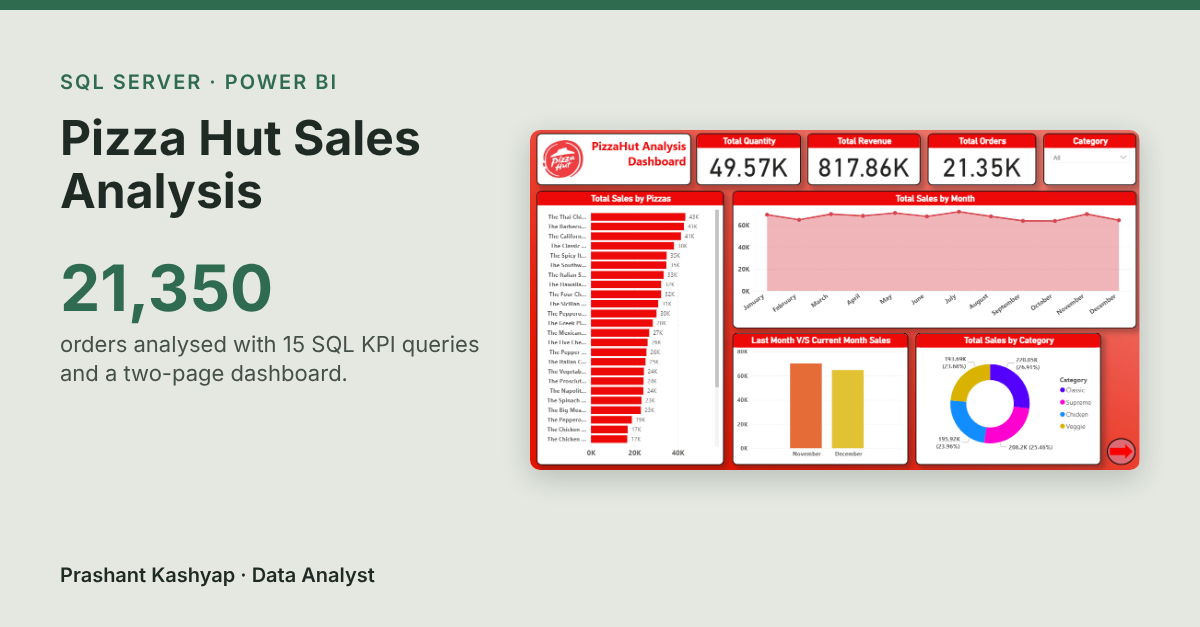

The dashboard page shown, as its layout file describes it:
{"tool":"powerbi","page":{"name":"DashBoard1","canvas":[1280,720],"ordinal":0},"visuals":[{"type":"card","title":"Total Quantity","fields":{"Values":["Sum(order_details.quantity)"]},"box":[351.1,10.9,219.6,108.6],"z":0},{"type":"card","title":"Total Revenue","fields":{"Values":["order_details.Total_Revenue"]},"box":[583.9,10.9,236.5,108.6],"z":1000},{"type":"card","title":"Total Orders","fields":{"Values":["Count(order_details.order_id)"]},"box":[836.1,10.9,226.8,108.6],"z":2000},{"type":"textbox","box":[16.9,10.9,323.3,108.6],"z":3000},{"type":"barChart","title":"Total Sales by Pizzas","fields":{"Category":["pizza_types.name"],"Y":["order_details.Total_Revenue"]},"box":[16.9,131.5,392.1,575.5],"z":4000},{"type":"image","box":[16.9,10.9,109.8,108.6],"z":5000},{"type":"areaChart","title":"Total Sales by Month","fields":{"Y":["order_details.Total_Revenue"],"Category":["Custom_calendar.Date.Variation.Date Hierarchy.Month"]},"box":[426.8,131.7,846.7,288.2],"z":6000},{"type":"slicer","title":"Category","fields":{"Values":["pizza_types.category"]},"box":[1078.6,10.9,194.2,108.6],"z":7000},{"type":"shape","box":[1211.7,650.4,60.4,56.3],"z":8000},{"type":"shape","box":[1217.2,662.8,48,31.6],"z":9000},{"type":"clusteredColumnChart","title":"Last Month V/S Current Month Sales","fields":{"Category":["Custom_calendar.Date.Variation.Date Hierarchy.Month"],"Y":["order_details.Total_Revenue"]},"box":[426.8,429.5,367.8,277.2],"z":10000},{"type":"donutChart","title":"Total Sales by Category","fields":{"Category":["pizza_types.category"],"Y":["order_details.Total_Revenue"]},"box":[811,429.5,388.3,277.2],"z":11000}]}

Visuals, with their boxes on the page's 1280x720 design canvas (x1, y1, x2, y2). These are canvas units, not pixel positions in the 1200x627 screenshot, which may show the page scaled, cropped or inside an application window:
"Total Quantity" card: bbox=[351, 11, 571, 120]
"Total Revenue" card: bbox=[584, 11, 820, 120]
"Total Orders" card: bbox=[836, 11, 1063, 120]
textbox: bbox=[17, 11, 340, 120]
"Total Sales by Pizzas" barChart: bbox=[17, 132, 409, 707]
image: bbox=[17, 11, 127, 120]
"Total Sales by Month" areaChart: bbox=[427, 132, 1274, 420]
"Category" slicer: bbox=[1079, 11, 1273, 120]
shape: bbox=[1212, 650, 1272, 707]
shape: bbox=[1217, 663, 1265, 694]
"Last Month V/S Current Month Sales" clusteredColumnChart: bbox=[427, 430, 795, 707]
"Total Sales by Category" donutChart: bbox=[811, 430, 1199, 707]
